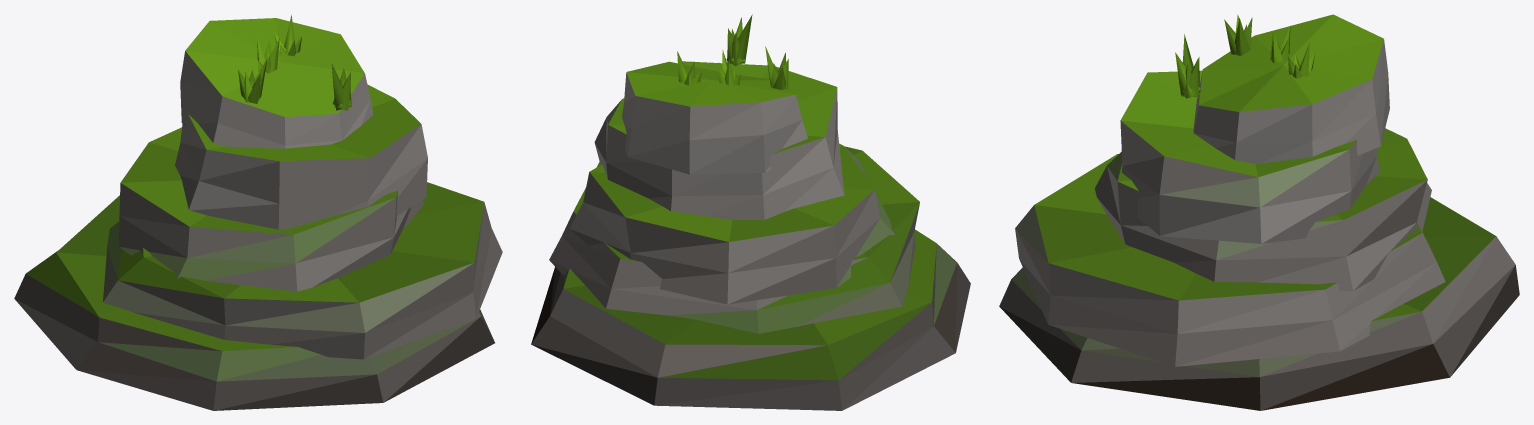
File: batu_slate_limestone_169443.glb
3 views of the same model, side by side, from view 1: azimuth 30°, elevation 25°; view 2: azimuth 150°, elevation 25°; view 3: azimuth 270°, elevation 25° (orthographic). The views are drawn at different scales.
Visible parts, largest first — view 1: Batu_Pipih_Bertumpuk; view 2: Batu_Pipih_Bertumpuk; view 3: Batu_Pipih_Bertumpuk.
Boxes of the visible parts, x1,y1,x2,y2 form: Batu_Pipih_Bertumpuk: (14, 15, 502, 410); Batu_Pipih_Bertumpuk: (531, 14, 970, 410); Batu_Pipih_Bertumpuk: (999, 14, 1519, 410).
Bounding box in the file's own units: 4.91 × 3.19 × 5.16.
